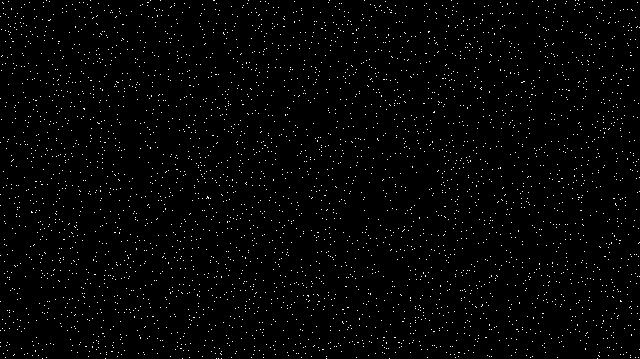pot: (170, 1, 347, 165)
